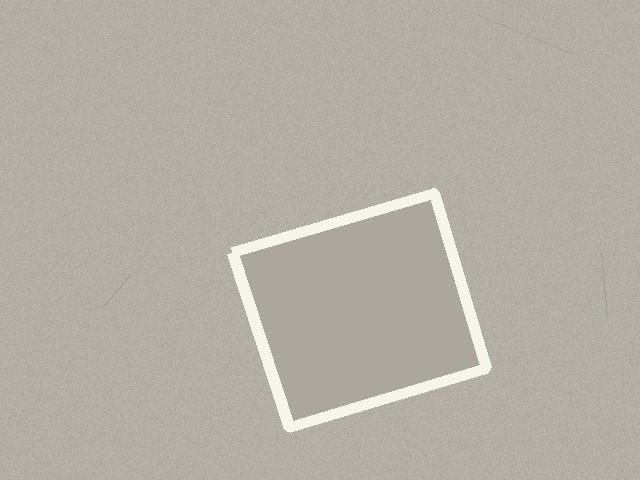parking_area: (232, 193, 486, 427)
